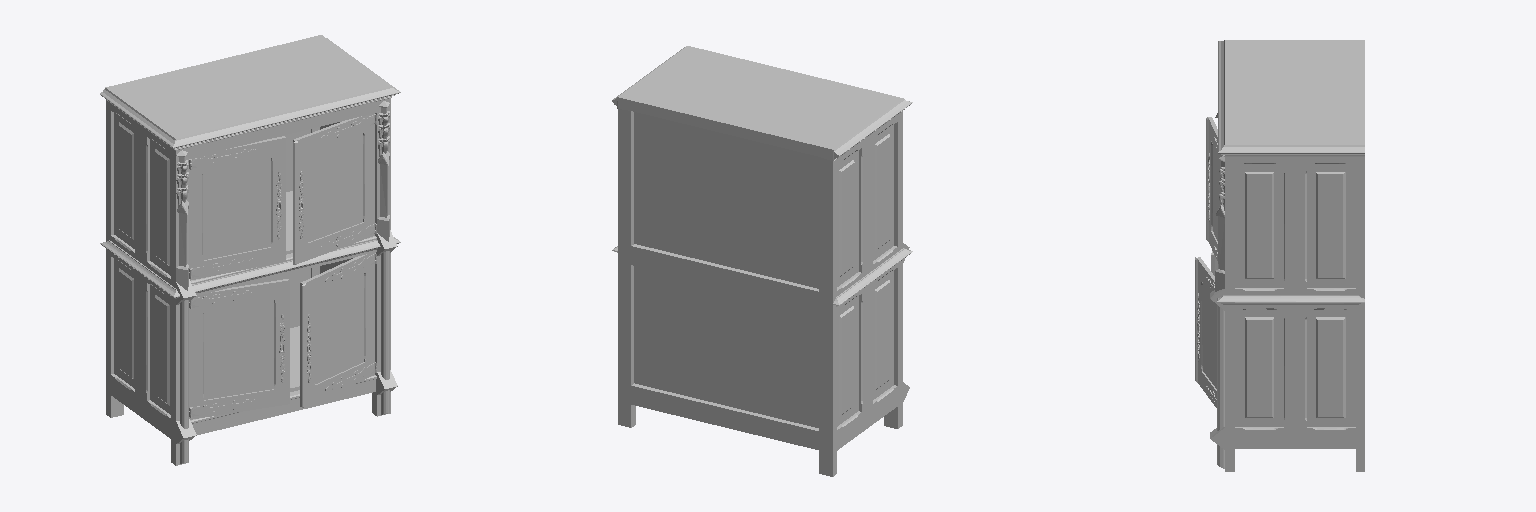
Rendered from GothicCabinet_01_1k.obj.
The picture shows the model from 3 angles: view 1: azimuth 30°, elevation 25°; view 2: azimuth 150°, elevation 25°; view 3: azimuth 270°, elevation 25°; orthographic projection.
Parts seen in each view (by area): view 1: GothicCabinet_01_cabinet_Plane.004, GothicCabinet_01_door3_Plane.007, GothicCabinet_01_door1_Plane.000, GothicCabinet_01_door2_Plane.001, GothicCabinet_01_door4_Plane.008; view 2: GothicCabinet_01_cabinet_Plane.004; view 3: GothicCabinet_01_cabinet_Plane.004, GothicCabinet_01_door4_Plane.008, GothicCabinet_01_door2_Plane.001.
Boxes of the visible parts, x1,y1,x2,y2 form: GothicCabinet_01_cabinet_Plane.004: [100, 35, 400, 465]; GothicCabinet_01_door3_Plane.007: [189, 279, 289, 419]; GothicCabinet_01_door1_Plane.000: [189, 136, 285, 280]; GothicCabinet_01_door2_Plane.001: [293, 113, 376, 264]; GothicCabinet_01_door4_Plane.008: [300, 253, 376, 407]; GothicCabinet_01_cabinet_Plane.004: [612, 46, 912, 476]; GothicCabinet_01_cabinet_Plane.004: [1210, 40, 1364, 471]; GothicCabinet_01_door4_Plane.008: [1195, 257, 1216, 407]; GothicCabinet_01_door2_Plane.001: [1206, 117, 1223, 260].
Bounding box in the file's own units: 1.72 × 2.36 × 1.12.